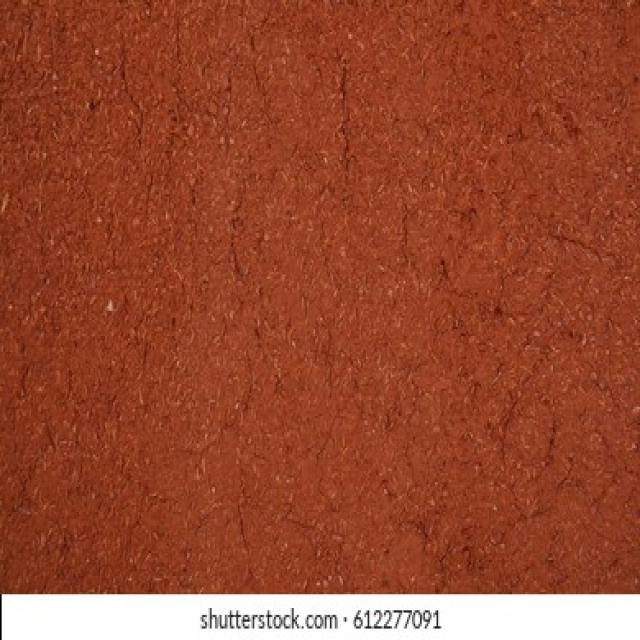Red Soil: (46, 61, 608, 558)
